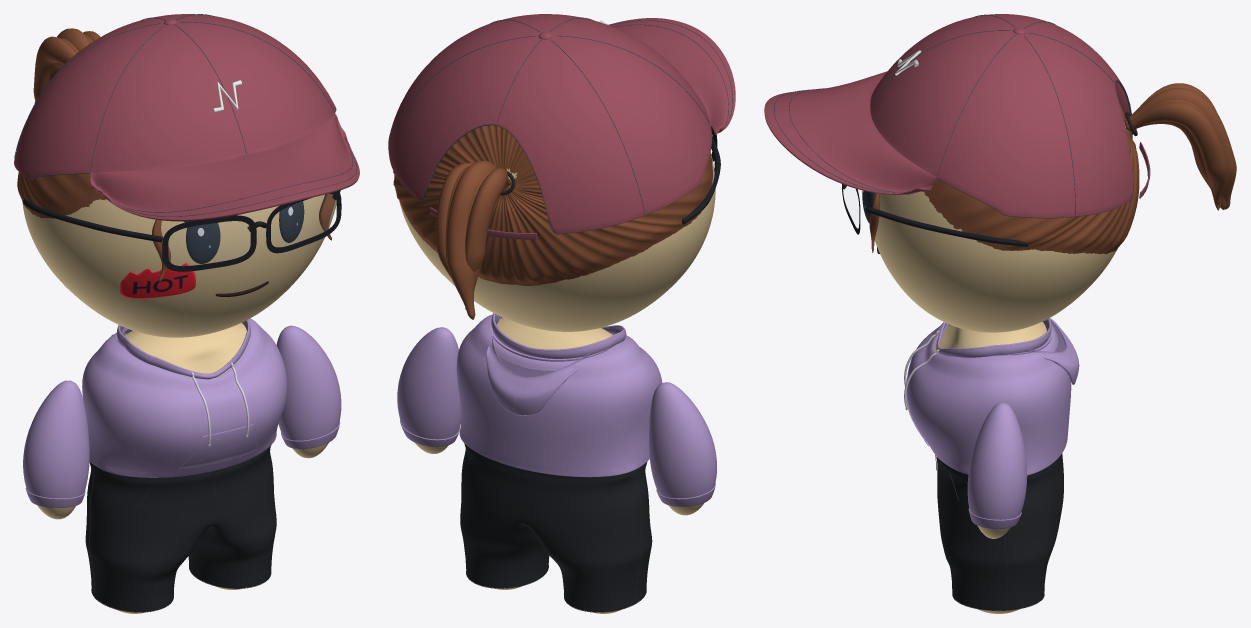
Rendered from Feminine-optimized264.glb.
3 views of the same model, side by side, from view 1: azimuth 30°, elevation 25°; view 2: azimuth 150°, elevation 25°; view 3: azimuth 270°, elevation 25° (orthographic). The views are drawn at different scales.
Parts seen in each view (by area): view 1: Cap / sewn crown and curved bill212, Bottom / continuous pants187.001, Skin / soft oval head, Clothing / tailored203.001, Sleeve / full fabric wrap201 -1.001, Sleeve / full fabric wrap201 1.001, Skin / rounded torso, Hair / swept roots220, 226 glasses / Accessory / warm metal226, Hoodie / seated pouch202.001, HOT / original flame silhouette212, Hair / rounded tail220 0 (+6 smaller); view 2: Cap / sewn crown and curved bill212, Bottom / continuous pants187.001, Clothing / tailored203.001, Hair / swept roots220, Skin / soft oval head, Sleeve / full fabric wrap201 -1.001, Sleeve / full fabric wrap201 1.001, Hoodie / rounded resting hood215.001, Hair / rounded tail220 2, Hair / rounded tail220 0, Skin / rounded torso, Hoodie / attached opening204.001 (+4 smaller); view 3: Cap / sewn crown and curved bill212, Skin / soft oval head, Clothing / tailored203.001, Bottom / continuous pants187.001, Hair / swept roots220, Sleeve / full fabric wrap201 1.001, Hair / rounded tail220 4, Hair / rounded tail220 2, Skin / rounded torso, Hoodie / attached opening204.001, 226 glasses / Glasses / frame226, Hoodie / rounded resting hood215.001 (+1 smaller).
Boxes of the visible parts, x1,y1,x2,y2 form: Cap / sewn crown and curved bill212: (14, 14, 359, 221); Bottom / continuous pants187.001: (85, 446, 276, 611); Skin / soft oval head: (22, 194, 336, 337); Clothing / tailored203.001: (82, 318, 287, 477); Sleeve / full fabric wrap201 -1.001: (23, 380, 89, 498); Sleeve / full fabric wrap201 1.001: (276, 325, 341, 440); Skin / rounded torso: (124, 323, 246, 378); Hair / swept roots220: (17, 172, 105, 218); 226 glasses / Accessory / warm metal226: (162, 191, 341, 271); Hoodie / seated pouch202.001: (178, 424, 256, 470); HOT / original flame silhouette212: (120, 262, 195, 298); Hair / rounded tail220 0: (33, 36, 76, 101); Cap / sewn crown and curved bill212: (388, 14, 735, 233); Bottom / continuous pants187.001: (460, 443, 652, 611); Clothing / tailored203.001: (456, 314, 662, 477); Hair / swept roots220: (393, 125, 712, 285); Skin / soft oval head: (399, 152, 715, 331); Sleeve / full fabric wrap201 -1.001: (649, 382, 716, 498); Sleeve / full fabric wrap201 1.001: (397, 327, 460, 439); Hoodie / rounded resting hood215.001: (486, 314, 591, 415); Hair / rounded tail220 2: (446, 161, 496, 319); Hair / rounded tail220 0: (465, 168, 511, 309); Skin / rounded torso: (496, 317, 612, 349); Hoodie / attached opening204.001: (491, 315, 626, 361); Cap / sewn crown and curved bill212: (764, 14, 1133, 217); Skin / soft oval head: (874, 122, 1126, 332); Clothing / tailored203.001: (906, 322, 1071, 475); Bottom / continuous pants187.001: (936, 453, 1063, 610); Hair / swept roots220: (922, 104, 1139, 254); Sleeve / full fabric wrap201 1.001: (967, 402, 1027, 519); Hair / rounded tail220 4: (1125, 102, 1227, 204); Hair / rounded tail220 2: (1124, 88, 1236, 209); Skin / rounded torso: (934, 321, 1046, 353); Hoodie / attached opening204.001: (936, 319, 1052, 357); 226 glasses / Glasses / frame226: (865, 206, 1028, 246); Hoodie / rounded resting hood215.001: (1026, 318, 1079, 384).
Bounding box in the file's own units: 1.06 × 1.84 × 1.42.
